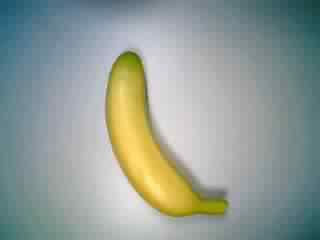banana: (102, 45, 237, 224)
